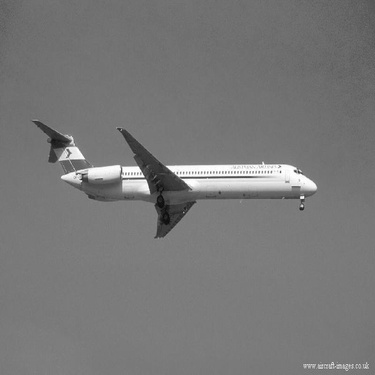airplane: (23, 102, 327, 241)
